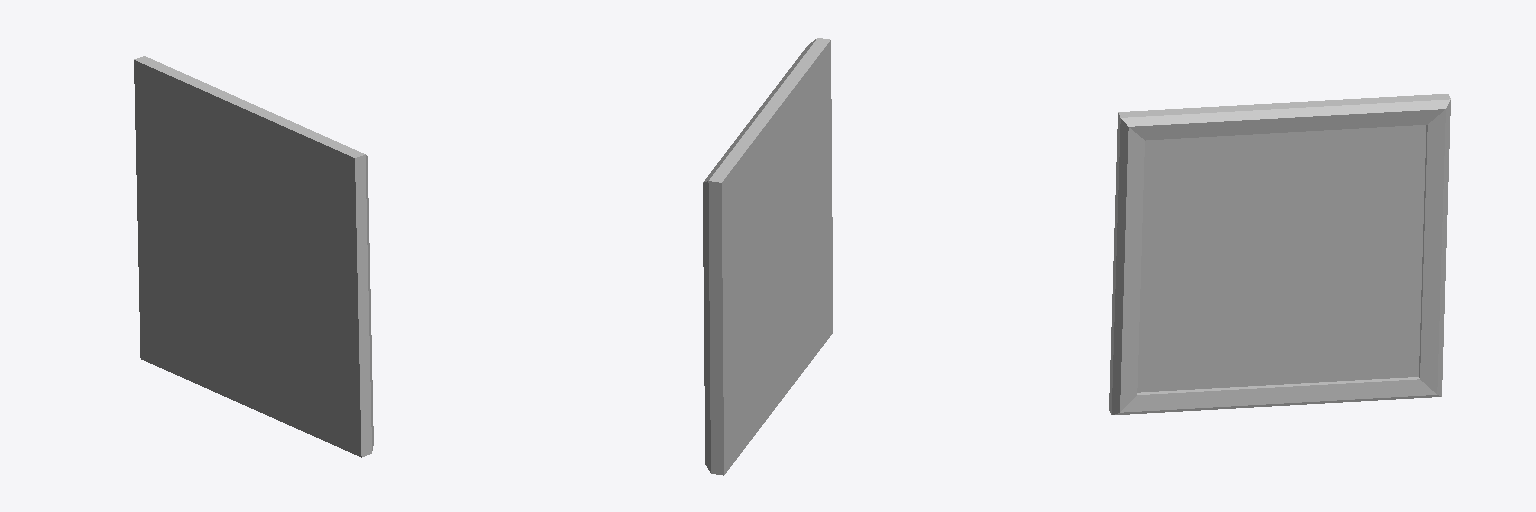
File: dsfesfs.obj
The picture shows the model from 3 angles: view 1: azimuth 30°, elevation 25°; view 2: azimuth 150°, elevation 25°; view 3: azimuth 270°, elevation 25°; orthographic projection.
Parts seen in each view (by area): view 1: group[number redacted]; view 2: group[number redacted]; view 3: group[number redacted].
Boxes of the visible parts, x1,y1,x2,y2 form: group[number redacted]: [134, 56, 373, 457]; group[number redacted]: [703, 38, 832, 475]; group[number redacted]: [1109, 94, 1450, 414].
Size of the model in its own units: 0.144 by 0.5549 by 0.5634.